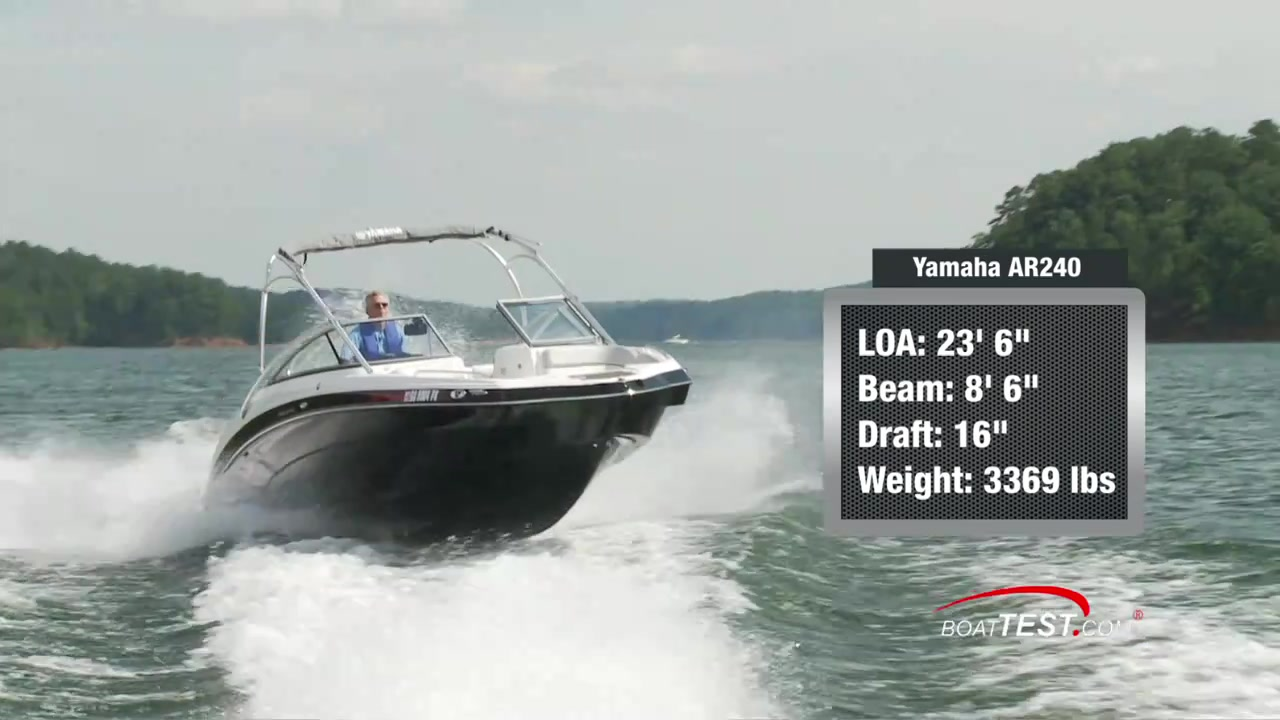boat: (201, 215, 697, 547)
